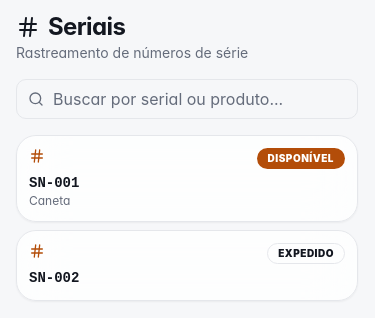
Test: SerialsPage › busca filtra pelo código e pelo nome do produto
Check: the text "SN-001" is shown, box [29,175,79,191]
Type "caneta" into the field at (187, 99), box [16,79,358,119]
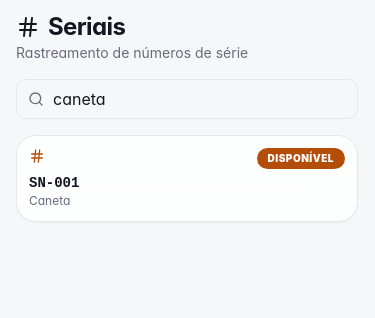
Check: the text "SN-001" is shown, box [29,175,79,191]
Check: the text "SN-002" is gone
Replace the text in the field with "sn-002" at (187, 99), box [16,79,358,119]
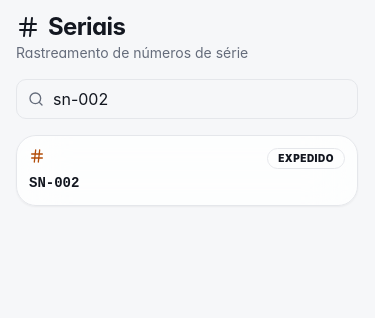
Check: the text "SN-002" is shown, box [29,175,79,191]
